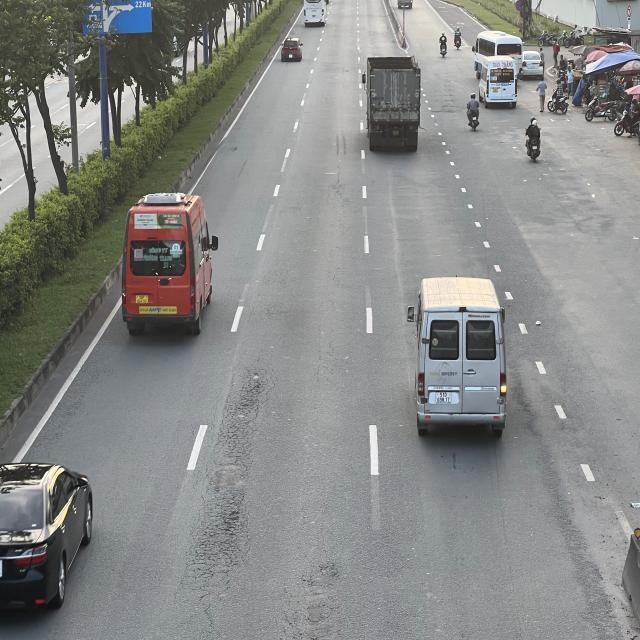car: (0, 461, 94, 615), (522, 50, 546, 78), (280, 37, 302, 65)
coach: (122, 192, 219, 334), (302, 0, 328, 26)
truck: (362, 55, 423, 152)
van: (409, 278, 507, 438), (477, 59, 519, 111)
